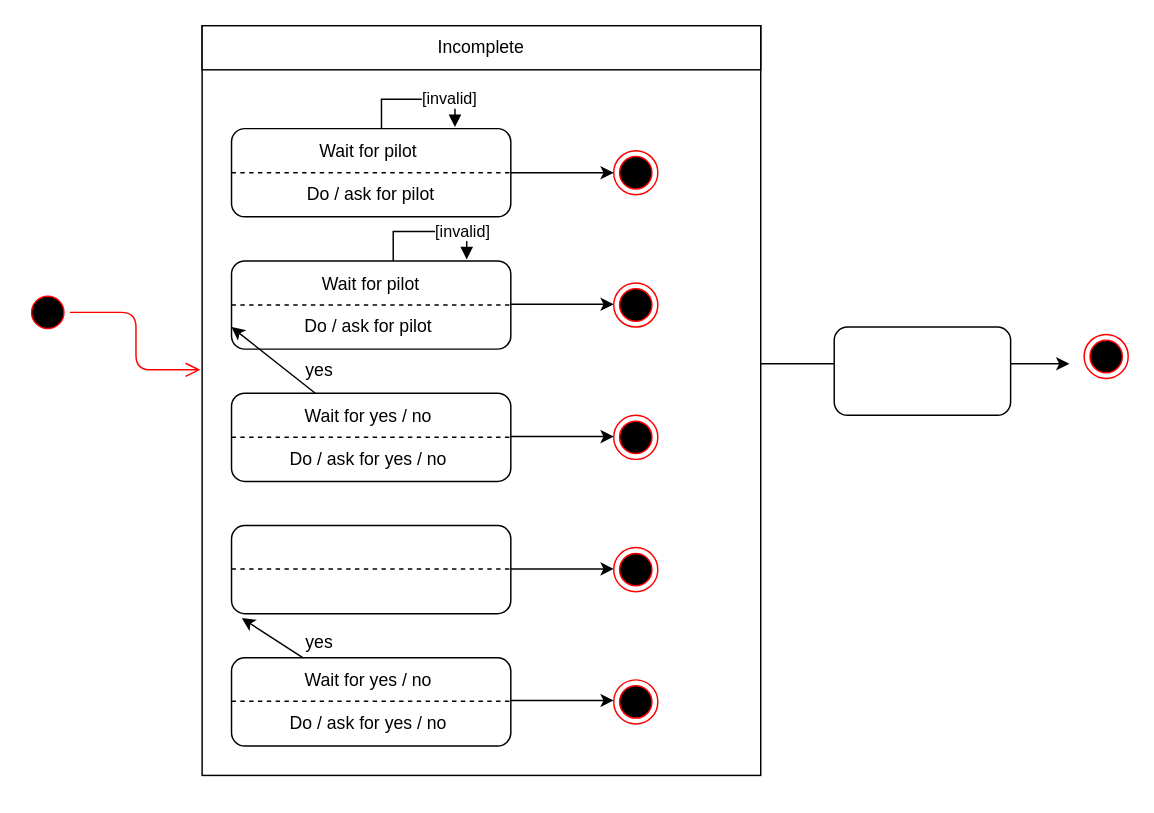
The diagram is 1154 pixels wide and 813 high, and some of its shapes have lost their labels. Here are the shapes that lost their labels. From the top down, the centre of each, then its label:
[922,370]: New crew created
[370,569]: Wait for flight attendant Do / ask for flight attendant
